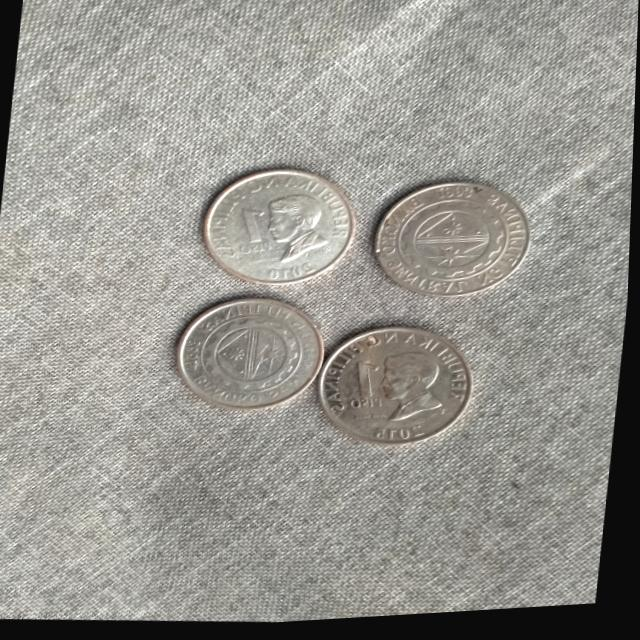1_Old_Back: (386, 194, 517, 292), (194, 308, 311, 401)
